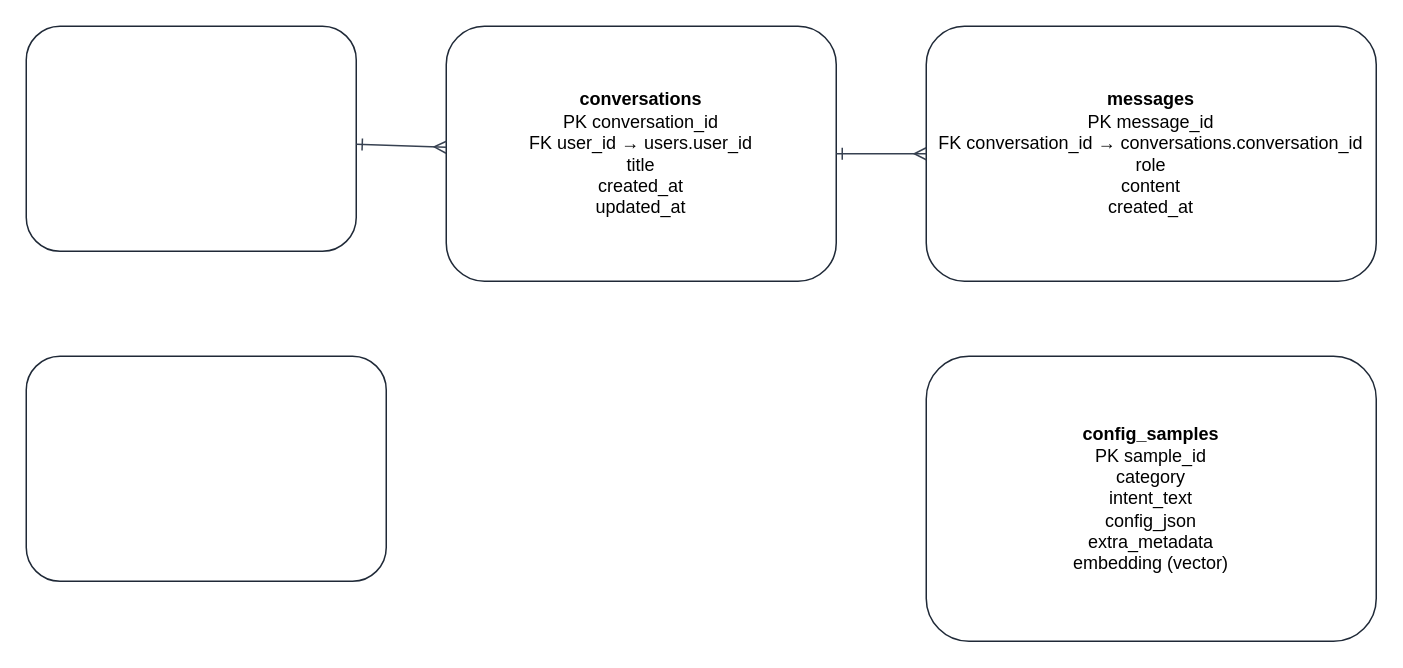
The diagram is 1403 pixels wide and 668 high, and some of its shapes have lost their labels. Each missing label, with the box of its shape:
devices PK device_id name type annotations extra_metadata: (25, 355, 386, 581)
users PK user_id username email password_hash created_at: (25, 25, 356, 251)
